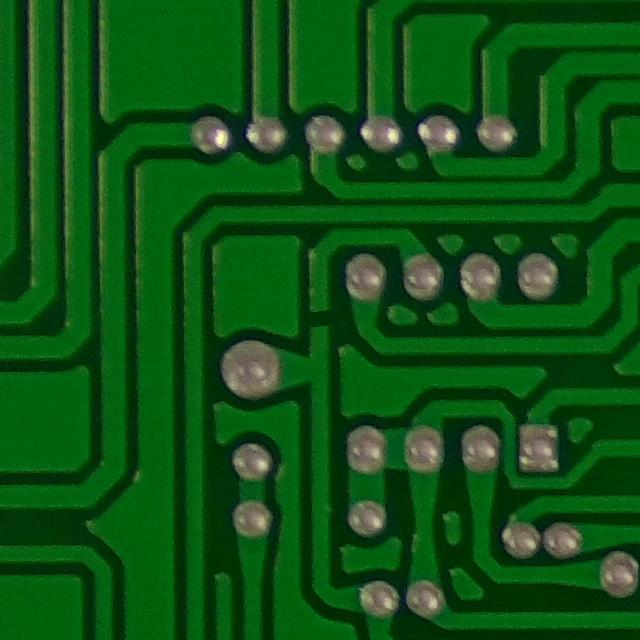open_circuit: (302, 303, 338, 338)
